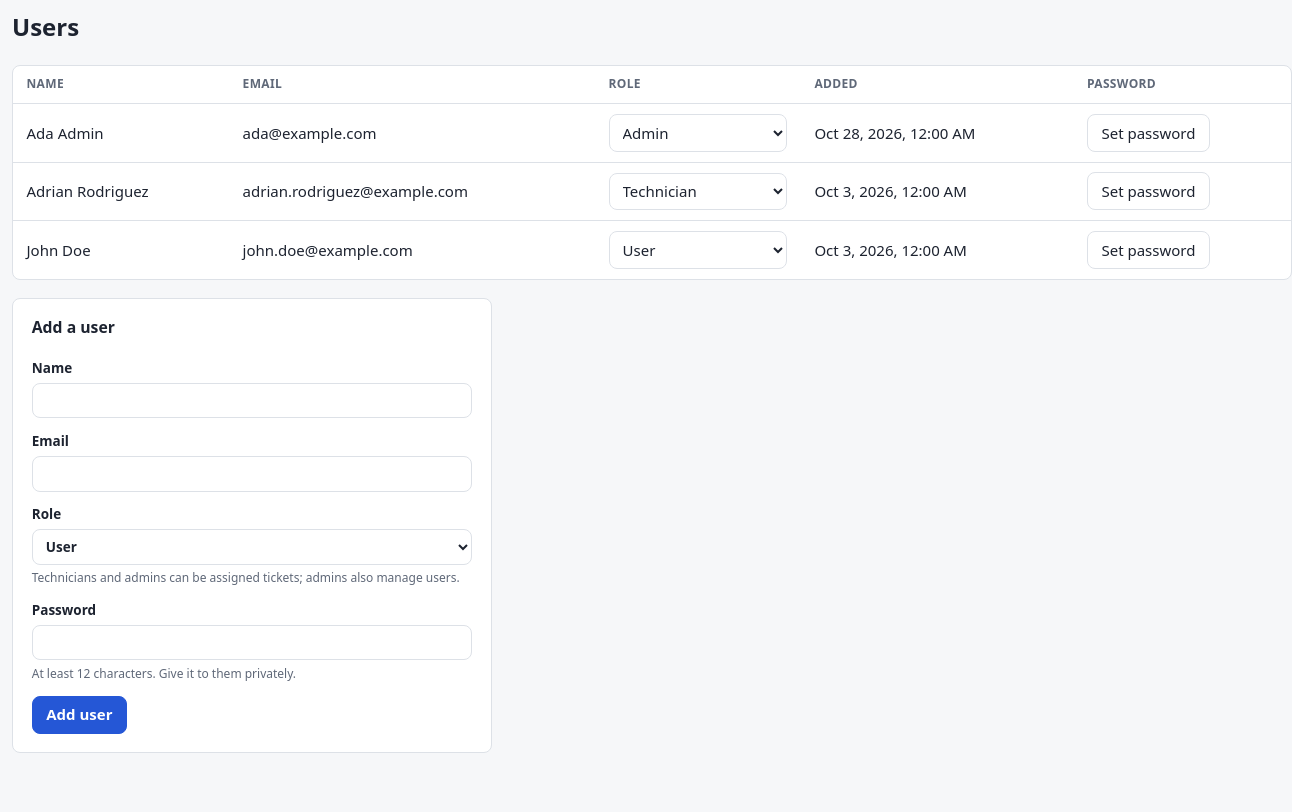
it: UsersPage › lets an admin set someone's password
This screenshot has width=1292, height=812.
Step 1. Click the button "Set password" in the row of "John Doe" → (1148, 250), box top-left (1087, 231), bottom-right (1210, 269)
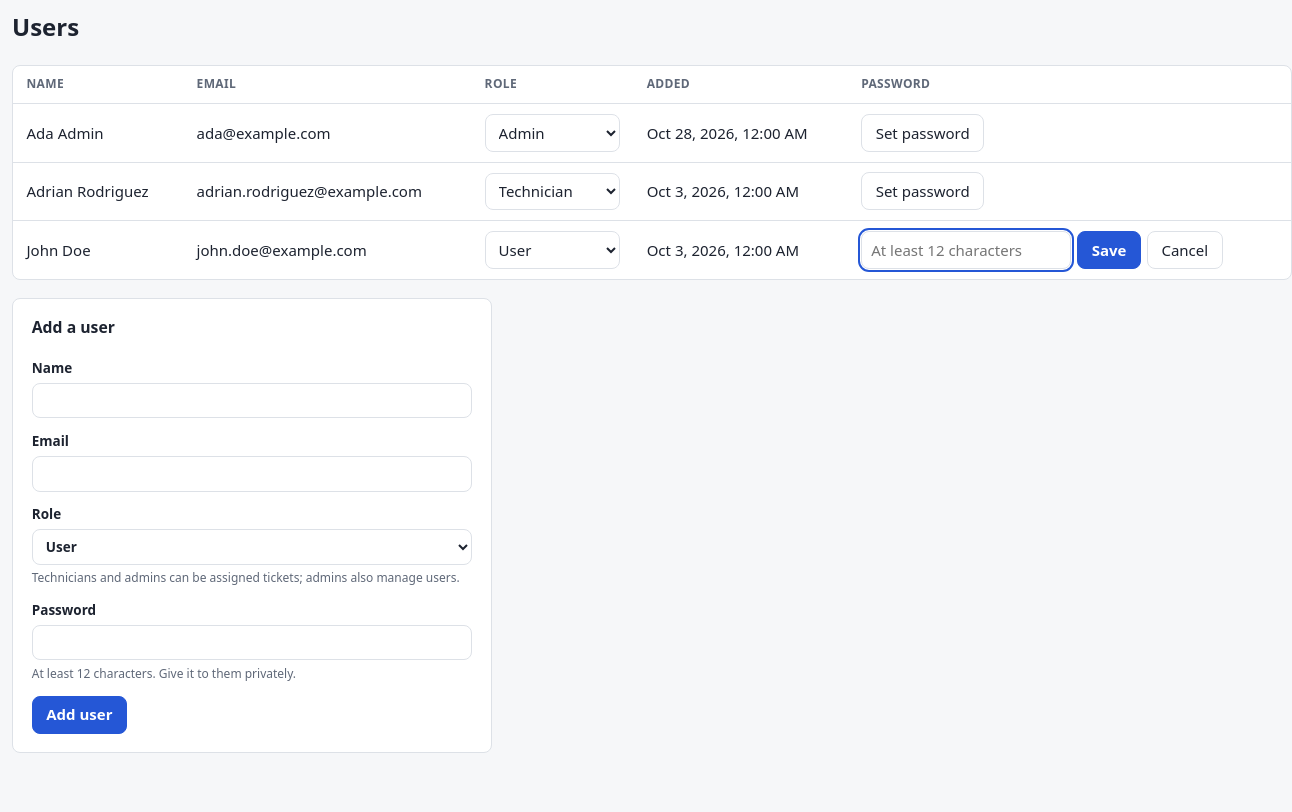
Step 2. Type "a brand new passphrase" into the password field with placeholder "At least 12 characters" → (966, 250), box top-left (861, 231), bottom-right (1071, 269)
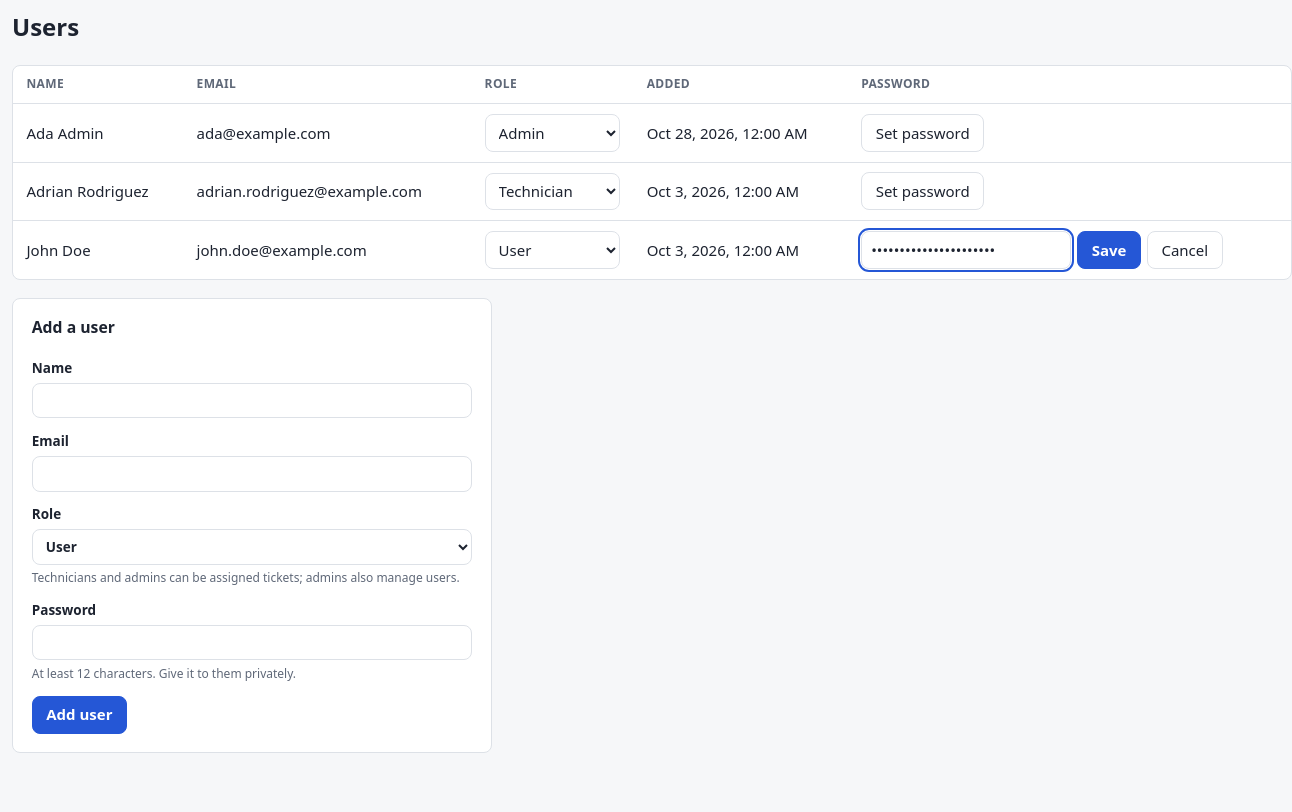
Step 3. Click the button "Save" → (1109, 250), box top-left (1077, 231), bottom-right (1141, 269)
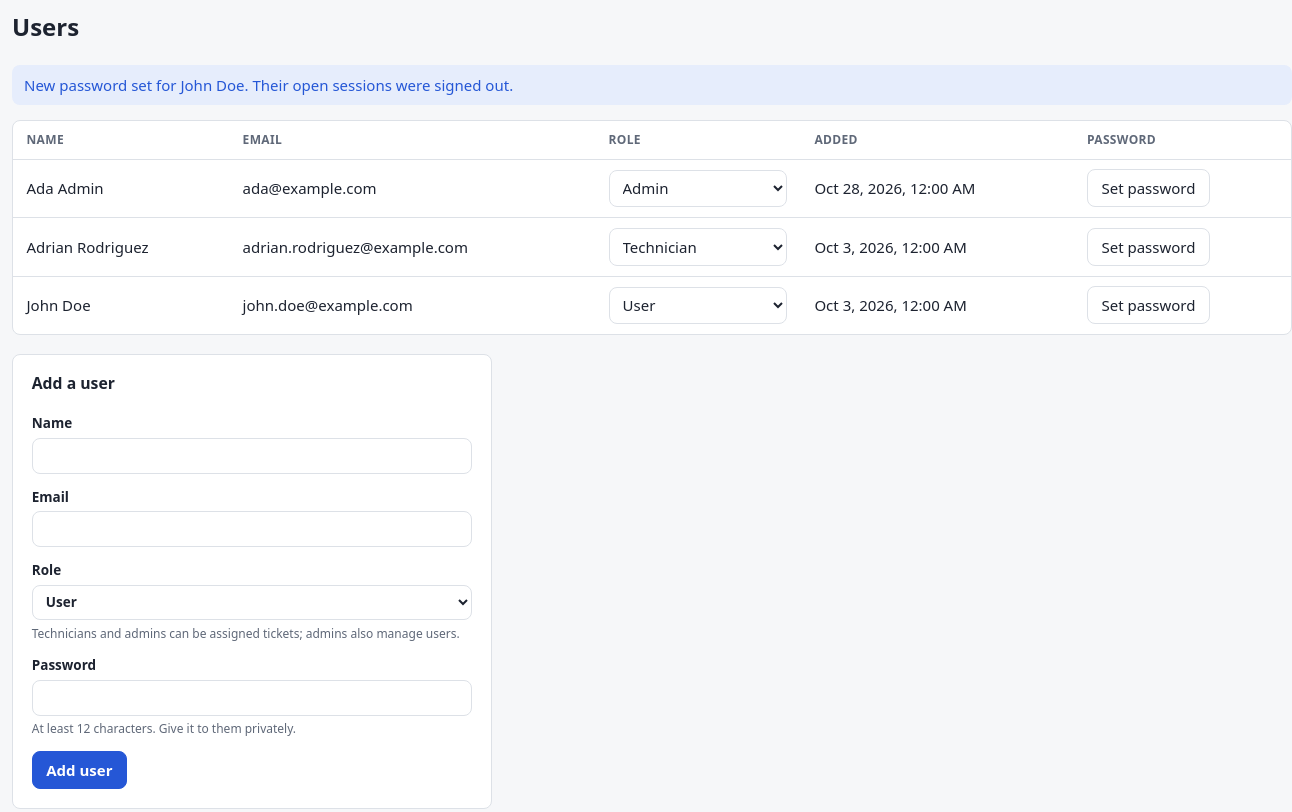
Check: the text "New password set for John Doe" is shown, box top-left (24, 74), bottom-right (513, 94)
